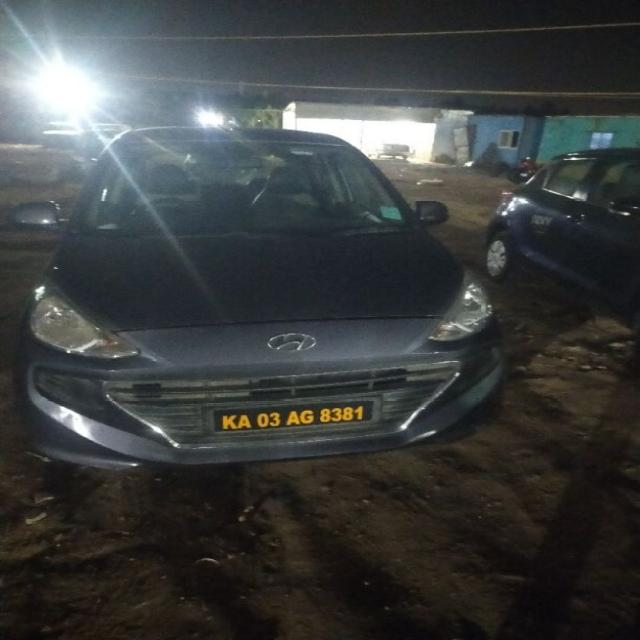license_plate: (208, 395, 382, 434)
